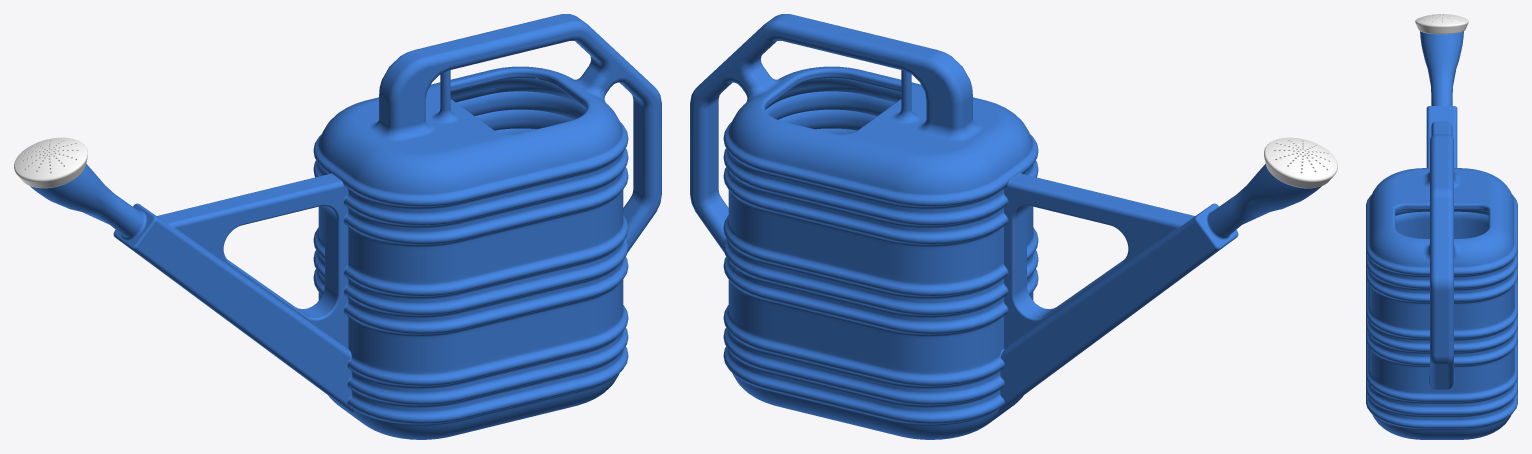
Rendered from S1_watering_can.fbx.
3 views of the same model, side by side, from view 1: azimuth 30°, elevation 25°; view 2: azimuth 150°, elevation 25°; view 3: azimuth 270°, elevation 25° (orthographic). The views are drawn at different scales.
Visible parts, largest first — view 1: 개체_1, 개체_2; view 2: 개체_1, 개체_2; view 3: 개체_1, 개체_2.
Part boxes in pixels (x1,y1,x2,y2): 개체_1: (30,14,661,439); 개체_2: (14,137,87,188); 개체_1: (690,14,1321,439); 개체_2: (1264,137,1337,188); 개체_1: (1366,31,1517,439); 개체_2: (1415,14,1468,34).
Bounding box in the file's own units: 141 × 41.37 × 74.93.
